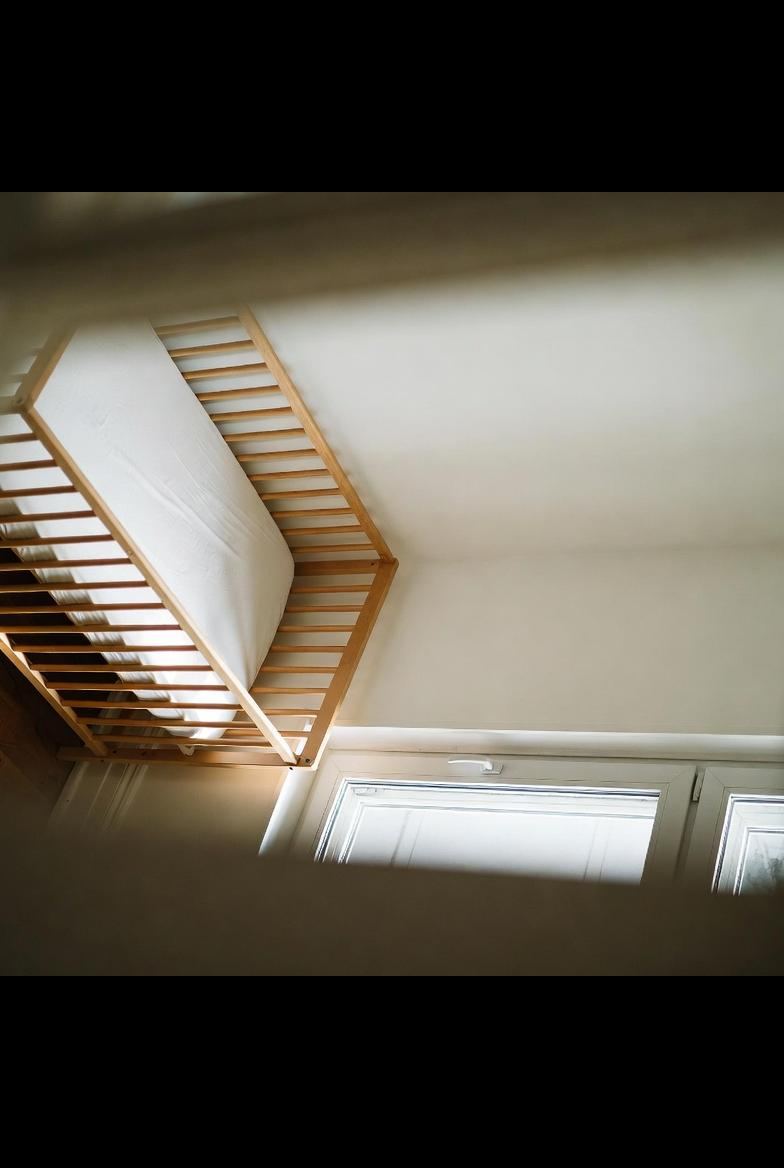crib: (0, 233, 404, 780)
